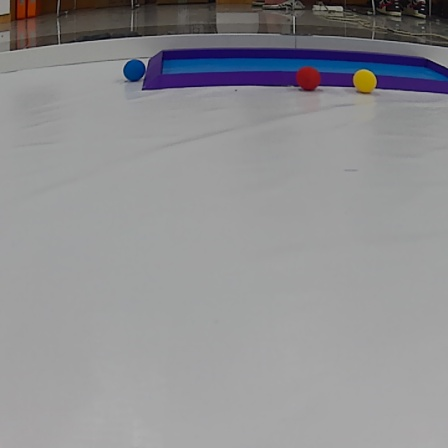blue: (124, 60, 145, 79)
blue_aim: (145, 43, 447, 100)
red: (297, 64, 321, 89)
yellow: (354, 67, 377, 97)
